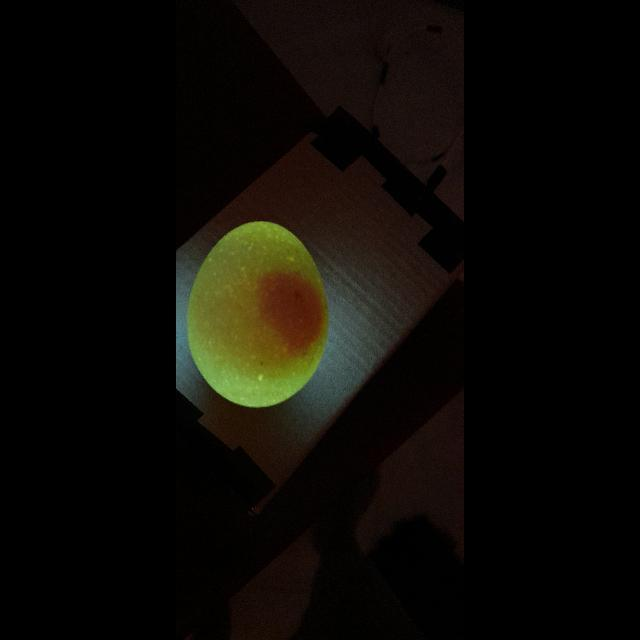Fertile: (188, 213, 328, 419)
